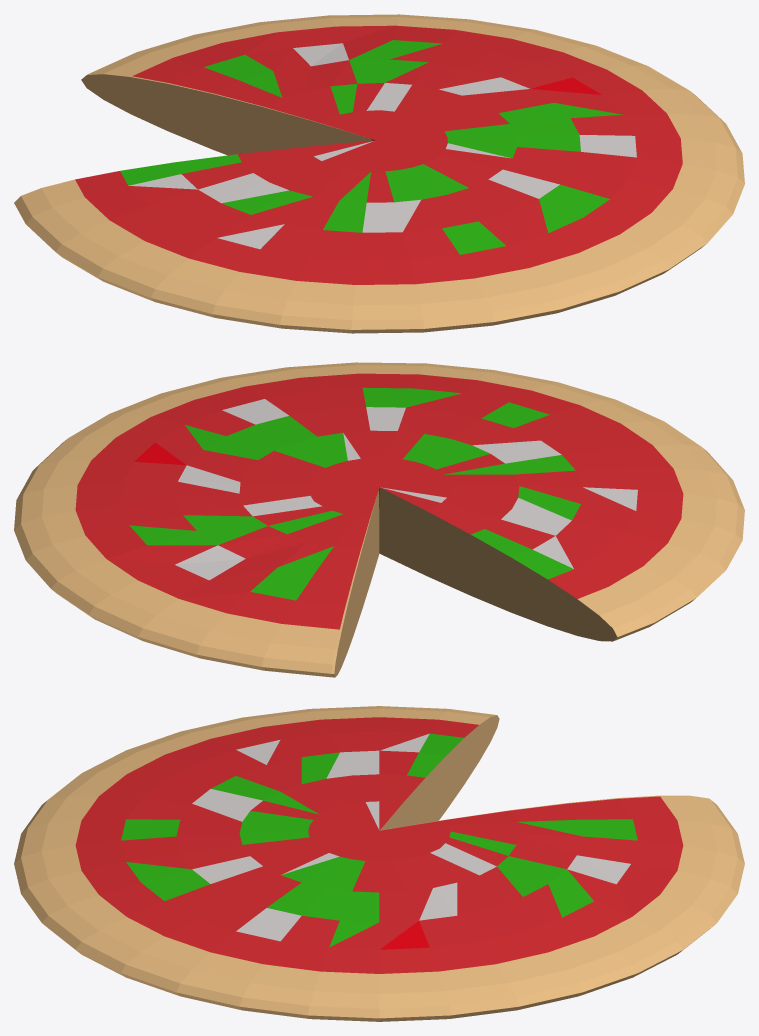
Rendered from pizza_color2.fbx.
3 renders of one model, top to bottom at view 1: azimuth 30°, elevation 25°; view 2: azimuth 150°, elevation 25°; view 3: azimuth 270°, elevation 25°, orthographic.
Parts seen in each view (by area): view 1: pizza; view 2: pizza; view 3: pizza.
Part boxes in pixels (x1,y1,x2,y2): pizza: (14, 14, 744, 333); pizza: (14, 362, 744, 677); pizza: (14, 706, 744, 1021).
Size of the model in its own units: 1 by 0.1 by 1.
